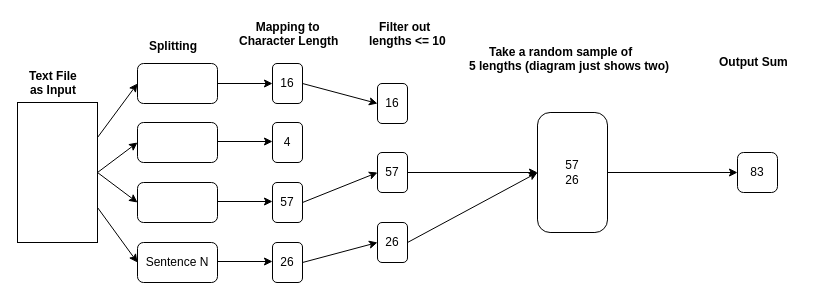
The diagram is 815 pixels wide and 300 high, and some of its shapes have lost their labels. The shapes that lost their labels are listed below. From the top down, each one's centre as x and y in pixels, then its label:
the point at 177,83: Sentence 1
the point at 177,142: Sentence 2
the point at 57,172: Sentence 1 Sentence 2 Sentence 3 ... Sentence N
the point at 177,202: Sentence 3
